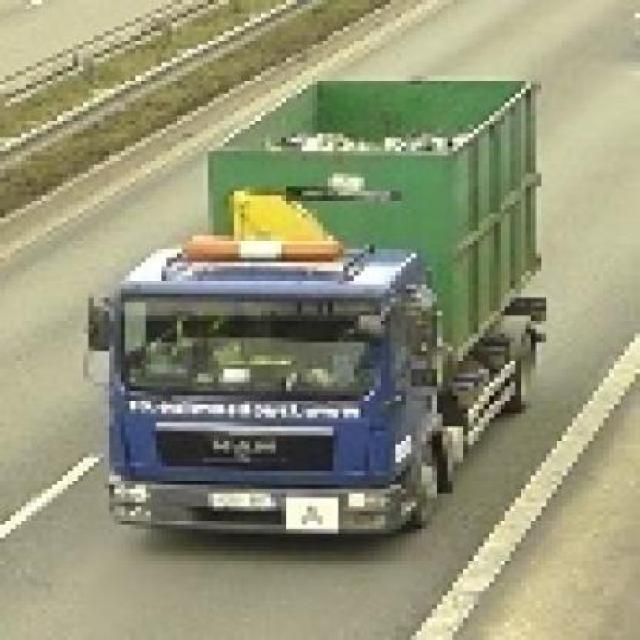truck: (79, 68, 548, 539)
